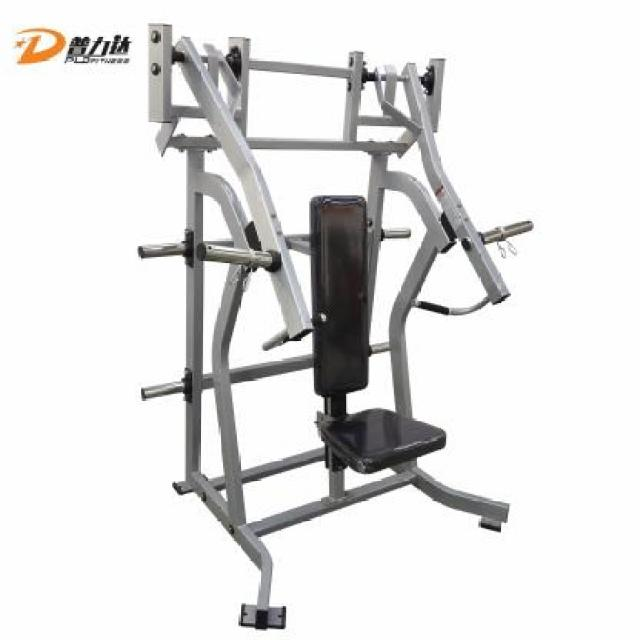Chest Press machine: (106, 19, 543, 638)
